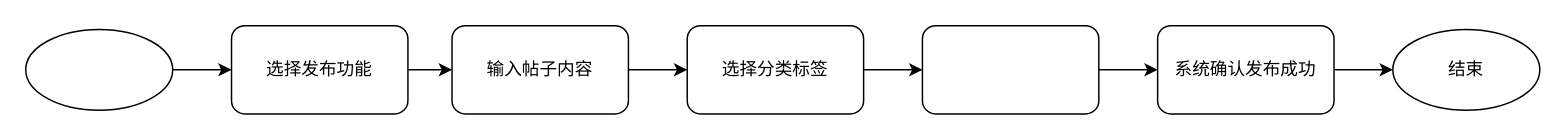
Image size: 1566x140. Some labels were removed from this diagram. The shapes that lost their labels are listed below. From the top down, each one's box as (x1, y1, x2, y2) in pixels, then its label:
(24, 28, 173, 110): 开始
(921, 24, 1099, 114): 点击发布按钮
